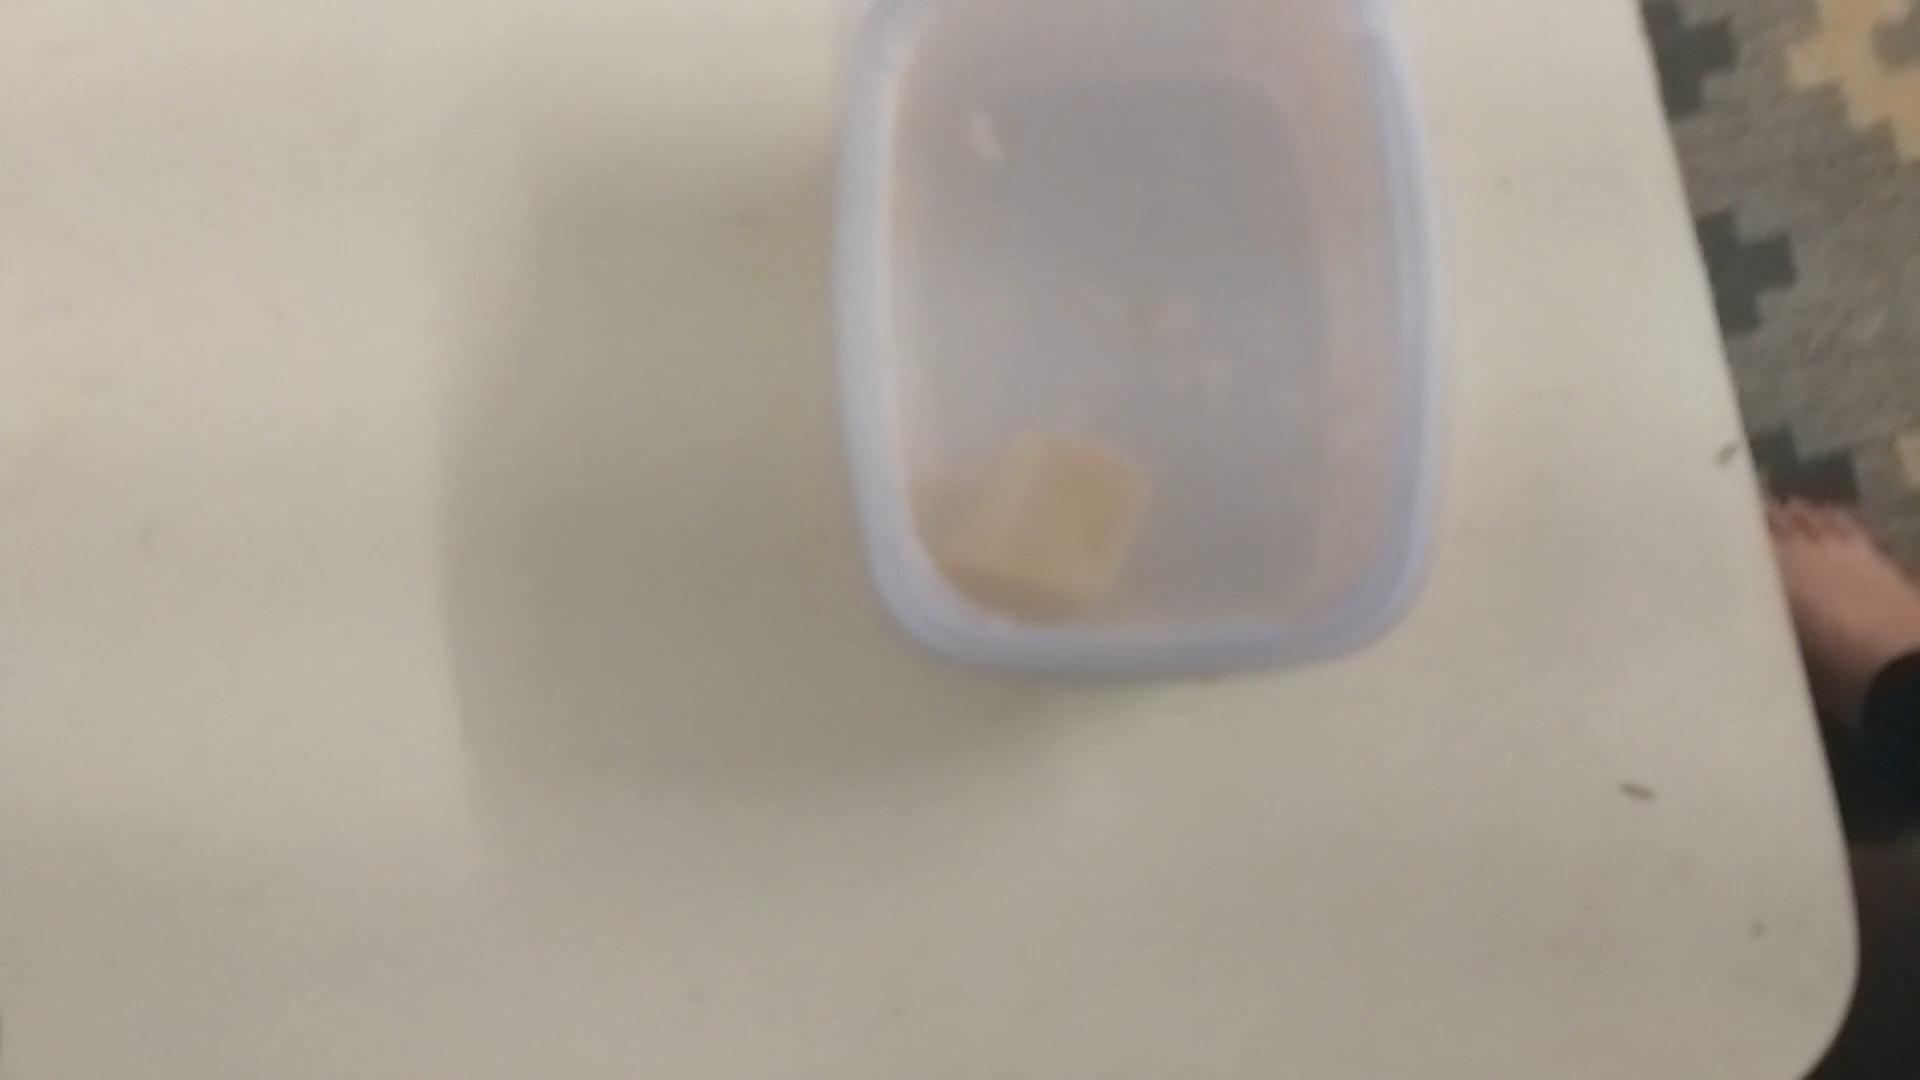butter: (833, 9, 1429, 687)
